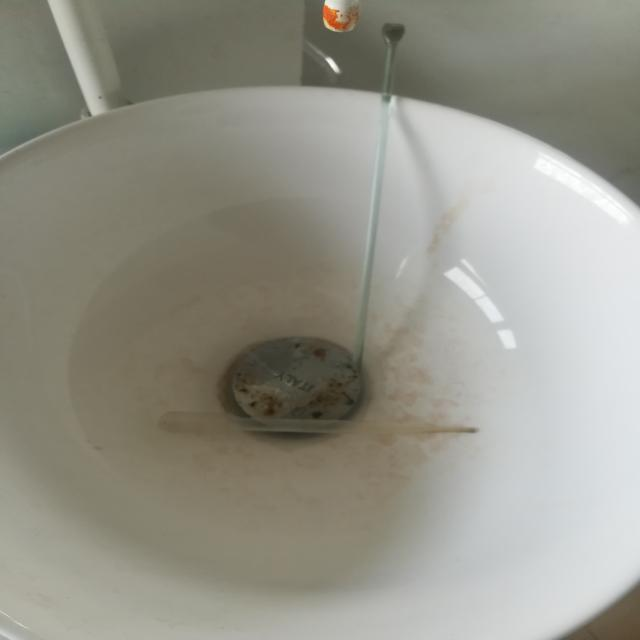Glass_Rod: (319, 1, 423, 392)
Pipette: (146, 396, 492, 478)
